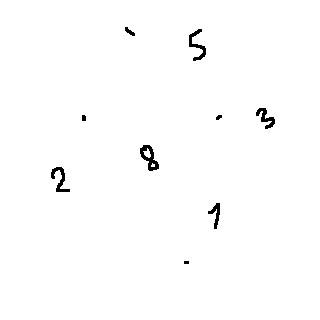.: (182, 254, 196, 274), (76, 110, 90, 126), (214, 107, 225, 124)
1: (199, 195, 230, 242)
2: (47, 161, 76, 200)
3: (253, 104, 285, 140)
5: (187, 17, 218, 65)
8: (135, 135, 165, 178)
